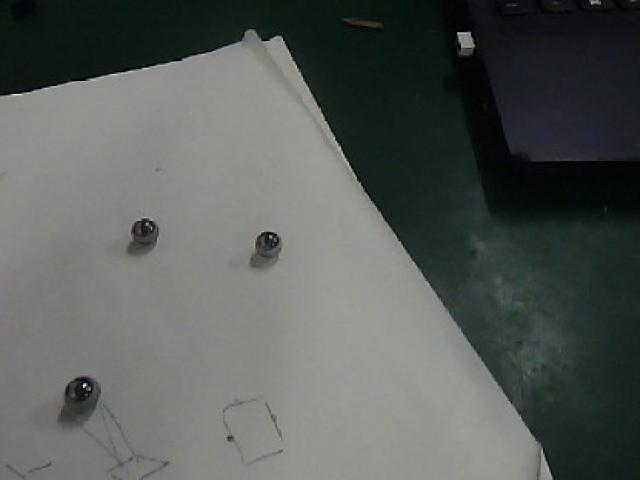steel-ball: (109, 189, 165, 262), (240, 217, 311, 269), (43, 354, 103, 415)
